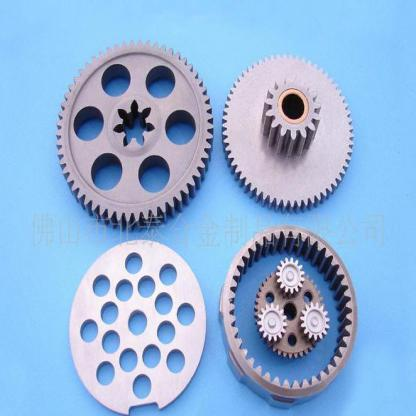FOD: (56, 35, 212, 234), (216, 221, 358, 407), (220, 48, 357, 215), (296, 300, 332, 343), (276, 255, 306, 296), (256, 300, 286, 340)
